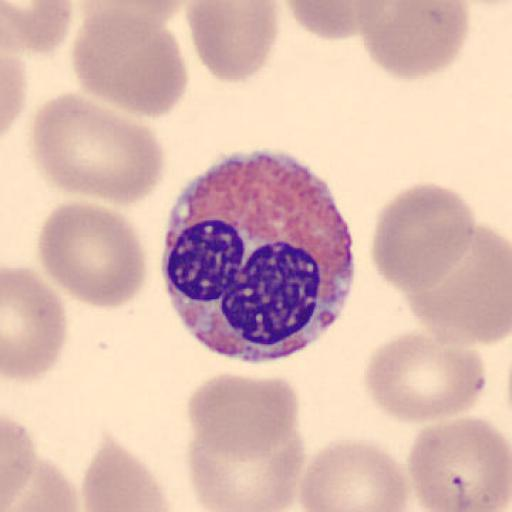RBC: (183, 371, 306, 512), (30, 91, 166, 204), (402, 218, 512, 345), (70, 7, 190, 117), (37, 198, 149, 310), (362, 329, 487, 426), (184, 370, 302, 472), (371, 181, 478, 292), (186, 419, 306, 512), (407, 416, 512, 512), (352, 0, 471, 82), (297, 434, 411, 512), (184, 1, 281, 84), (2, 264, 69, 382), (1, 414, 80, 512), (81, 434, 175, 512), (1, 410, 54, 512), (280, 0, 381, 42), (78, 0, 188, 37), (1, 0, 73, 56), (1, 410, 36, 512), (0, 14, 28, 137), (0, 50, 27, 142), (88, 0, 185, 23), (0, 0, 78, 24)
WBC: (163, 155, 356, 363)
